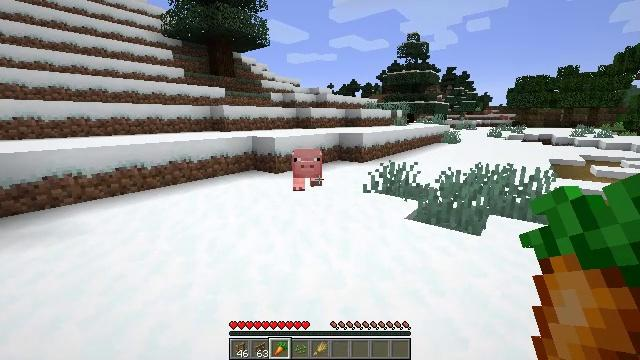pig: (292, 148, 322, 192)
